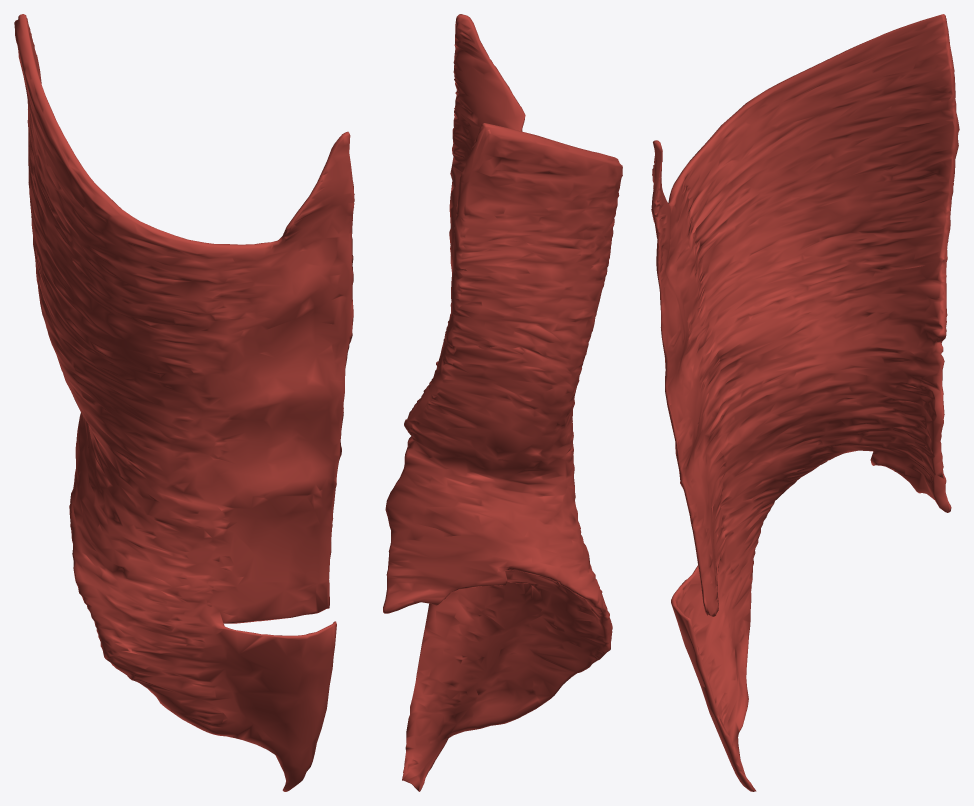
The model's file is musculos-transversus-abdominis-muscle-r.glb.
The picture shows the model from 3 angles, left to right: view 1: azimuth 30°, elevation 25°; view 2: azimuth 150°, elevation 25°; view 3: azimuth 270°, elevation 25°; orthographic projection. The views are drawn at different scales.
Visible parts, largest first — view 1: Transversus abdominis muscle.r; view 2: Transversus abdominis muscle.r; view 3: Transversus abdominis muscle.r.
Boxes of the visible parts, box(x1,y1,x2,y2) form: Transversus abdominis muscle.r: box(14, 14, 354, 791); Transversus abdominis muscle.r: box(383, 14, 622, 791); Transversus abdominis muscle.r: box(651, 14, 959, 791).
Bounding box in the file's own units: 0.1295 × 0.4211 × 0.1674.
